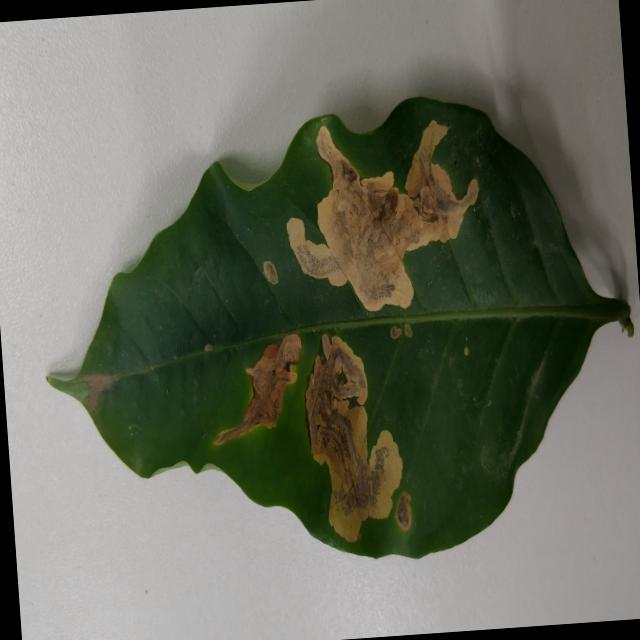KaratDaunKopi: (286, 121, 478, 311), (305, 334, 402, 541), (213, 334, 301, 445), (395, 491, 411, 531), (263, 260, 278, 284), (390, 325, 402, 339), (404, 323, 412, 337)
